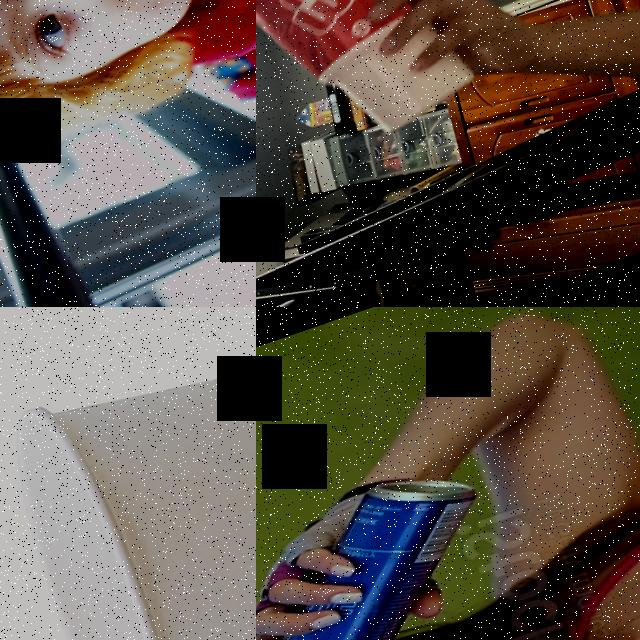can: (256, 443, 528, 640)
cup: (0, 307, 256, 640), (256, 0, 484, 172)
